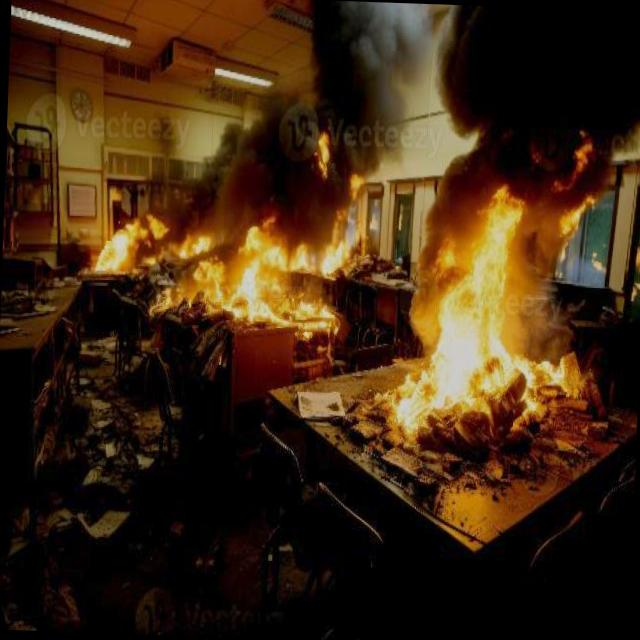Fire_Dangerous: (379, 185, 587, 447), (98, 192, 355, 346)
